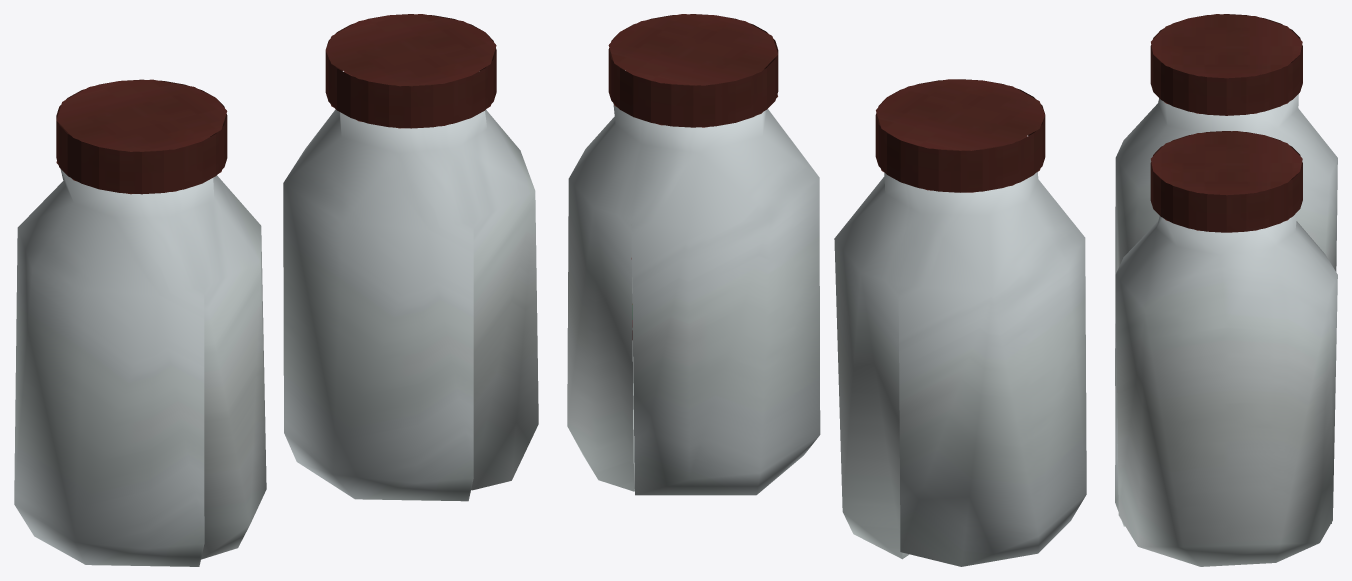
Rendered from FD08_CandyJars.glb.
3 renders of one model, left to right at view 1: azimuth 30°, elevation 25°; view 2: azimuth 150°, elevation 25°; view 3: azimuth 270°, elevation 25°, orthographic. The views are drawn at different scales.
Parts seen in each view (by area): view 1: FD08_CandyJars; view 2: FD08_CandyJars; view 3: FD08_CandyJars.
Boxes of the visible parts, bbox=[...] form: FD08_CandyJars: bbox=[14, 14, 538, 566]; FD08_CandyJars: bbox=[567, 14, 1086, 566]; FD08_CandyJars: bbox=[1115, 14, 1337, 566].
Bounding box in the file's own units: 0.3016 × 0.2418 × 0.1343.
Materials: 6 (6 with a texture image).
